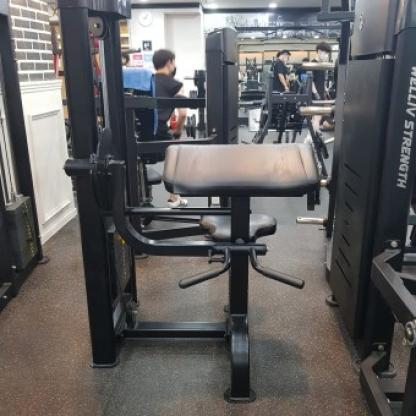arm curl machine: (68, 141, 320, 400)
